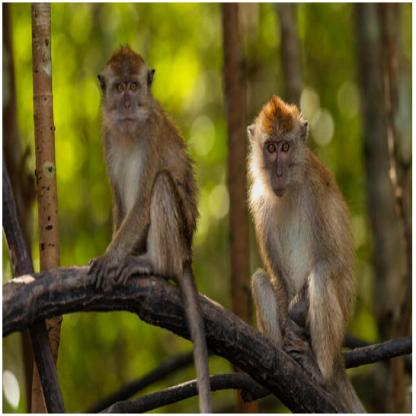monkey: (85, 39, 214, 304), (246, 91, 353, 382)
